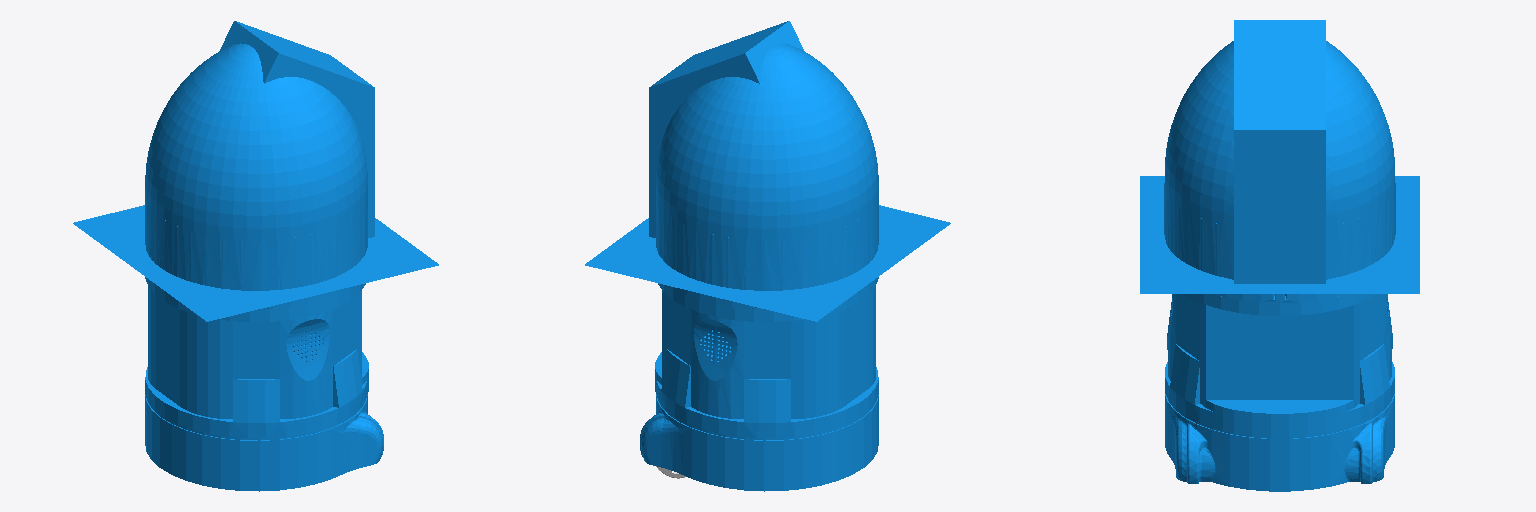
The robot description file, URDF, robot "water_description":
<robot
  name="water_description">
  <link
    name="base_link">
    <inertial>
      <origin
        xyz="0.000333004225212465 1.45131214129717E-05 0.234341697716168"
        rpy="0 0 0" />
      <mass
        value="80.1722695309394" />
      <inertia
        ixx="4.45627593650221"
        ixy="-0.000120784019756139"
        ixz="-0.0663886125014259"
        iyy="4.45433930232211"
        iyz="0.000402253446569656"
        izz="1.47601648850678" />
    </inertial>
    <visual>
      <origin
        xyz="0 0 0"
        rpy="0 0 0" />
      <geometry>
        <mesh
          filename="package://water_description/meshes/base_link.STL" />
      </geometry>
      <material
        name="">
        <color
          rgba="0.117647058823529 0.658823529411765 1 1" />
      </material>
    </visual>
    <collision>
      <origin
        xyz="0 0 0"
        rpy="0 0 0" />
      <geometry>
        <mesh
          filename="package://water_description/meshes/base_link.STL" />
      </geometry>
    </collision>
  </link>
  <link
    name="right_wheel_link">
    <inertial>
      <origin
        xyz="0 0 0"
        rpy="0 0 0" />
      <mass
        value="0.214252405507579" />
      <inertia
        ixx="0.000179109395198057"
        ixy="-1.75373762792168E-11"
        ixz="-1.0028090968596E-13"
        iyy="0.000301767221051853"
        iyz="6.65719731111029E-14"
        izz="0.000179081236452865" />
    </inertial>
    <visual>
      <origin
        xyz="0 0 0"
        rpy="0 0 0" />
      <geometry>
        <mesh
          filename="package://water_description/meshes/right_wheel_Link.STL" />
      </geometry>
      <material
        name="">
        <color
          rgba="1 1 1 1" />
      </material>
    </visual>
    <collision>
      <origin
        xyz="0 0 0"
        rpy="0 0 0" />
      <geometry>
        <mesh
          filename="package://water_description/meshes/right_wheel_Link.STL" />
      </geometry>
    </collision>
  </link>
  <joint
    name="right_wheel_joint"
    type="continuous">
    <origin
      xyz="0.0999999930950012 -0.147897664300856 -0.0924999999718101"
      rpy="0 0 0" />
    <parent
      link="base_link" />
    <child
      link="right_wheel_link" />
    <axis
      xyz="0 1 0" />
  </joint>
  <link
    name="left_wheel_link">
    <inertial>
      <origin
        xyz="0 0 0"
        rpy="0 0 0" />
      <mass
        value="0.214252405612172" />
      <inertia
        ixx="0.000179109395223178"
        ixy="1.74518243681799E-11"
        ixz="3.57851017118224E-14"
        iyy="0.000301767221213604"
        iyz="7.92722659520696E-14"
        izz="0.000179081236639626" />
    </inertial>
    <visual>
      <origin
        xyz="0 0 0"
        rpy="0 0 0" />
      <geometry>
        <mesh
          filename="package://water_description/meshes/left_wheel_Link.STL" />
      </geometry>
      <material
        name="">
        <color
          rgba="1 1 1 1" />
      </material>
    </visual>
    <collision>
      <origin
        xyz="0 0 0"
        rpy="0 0 0" />
      <geometry>
        <mesh
          filename="package://water_description/meshes/left_wheel_Link.STL" />
      </geometry>
    </collision>
  </link>
  <joint
    name="left_wheel_joint"
    type="continuous">
    <origin
      xyz="0.099999993112789 0.147897664300195 -0.0925000000306587"
      rpy="0 0 0" />
    <parent
      link="base_link" />
    <child
      link="left_wheel_link" />
    <axis
      xyz="0 1 0" />
  </joint>
  <link
    name="omni_wheel_link">
    <inertial>
      <origin
        xyz="0 6.51512757319569E-20 0"
        rpy="0 0 0" />
      <mass
        value="0.00634815361064737" />
      <inertia
        ixx="3.35342847845056E-07"
        ixy="-2.04764363484238E-18"
        ixz="2.08969324119687E-21"
        iyy="4.93529263557337E-07"
        iyz="1.0919258939827E-15"
        izz="3.35312650108157E-07" />
    </inertial>
    <visual>
      <origin
        xyz="0 0 0"
        rpy="0 0 0" />
      <geometry>
        <mesh
          filename="package://water_description/meshes/omni_wheel_Link.STL" />
      </geometry>
      <material
        name="">
        <color
          rgba="1 0.807843137254902 0.458823529411765 1" />
      </material>
    </visual>
    <collision>
      <origin
        xyz="0 0 0"
        rpy="0 0 0" />
      <geometry>
        <mesh
          filename="package://water_description/meshes/omni_wheel_Link.STL" />
      </geometry>
    </collision>
  </link>
  <joint
    name="omni_wheel_joint"
    type="fixed">
    <origin
      xyz="-0.160000004749928 0 -0.130000000008903"
      rpy="0 0 0" />
    <parent
      link="base_link" />
    <child
      link="omni_wheel_link" />
    <axis
      xyz="0 0 0" />
  </joint>
</robot>

--- What the picture shows (computed from the rendered views, not written in the file) ---
Views: 3 orthographic renders of the robot side by side, from view 1: azimuth 30°, elevation 25°; view 2: azimuth 150°, elevation 25°; view 3: azimuth 270°, elevation 25°.
Model water_description with 4 links and 3 joints (2 continuous, 1 fixed), rooted at base_link, posed all joints at 0.
Visible links, largest first — view 1: base_link; view 2: base_link; view 3: base_link.
Link boxes in pixels (x1,y1,x2,y2): base_link: (73,21,438,491); base_link: (585,21,950,491); base_link: (1140,20,1419,491).
Size in the robot's own frame: 0.4827 by 0.4858 by 0.8295 metres.
Meshes: 4 distinct files referenced, 3 mesh visuals loaded (3 binary STL); not drawn: 1 (reference not matched to a file when rendering).